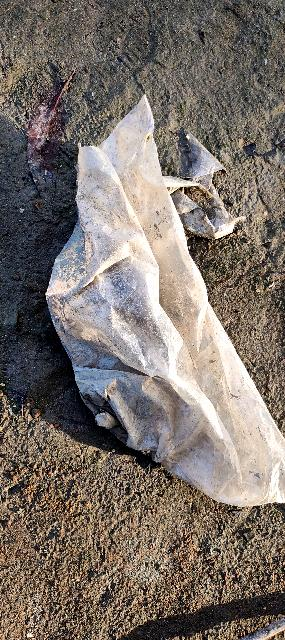polythene: (41, 108, 285, 519)
